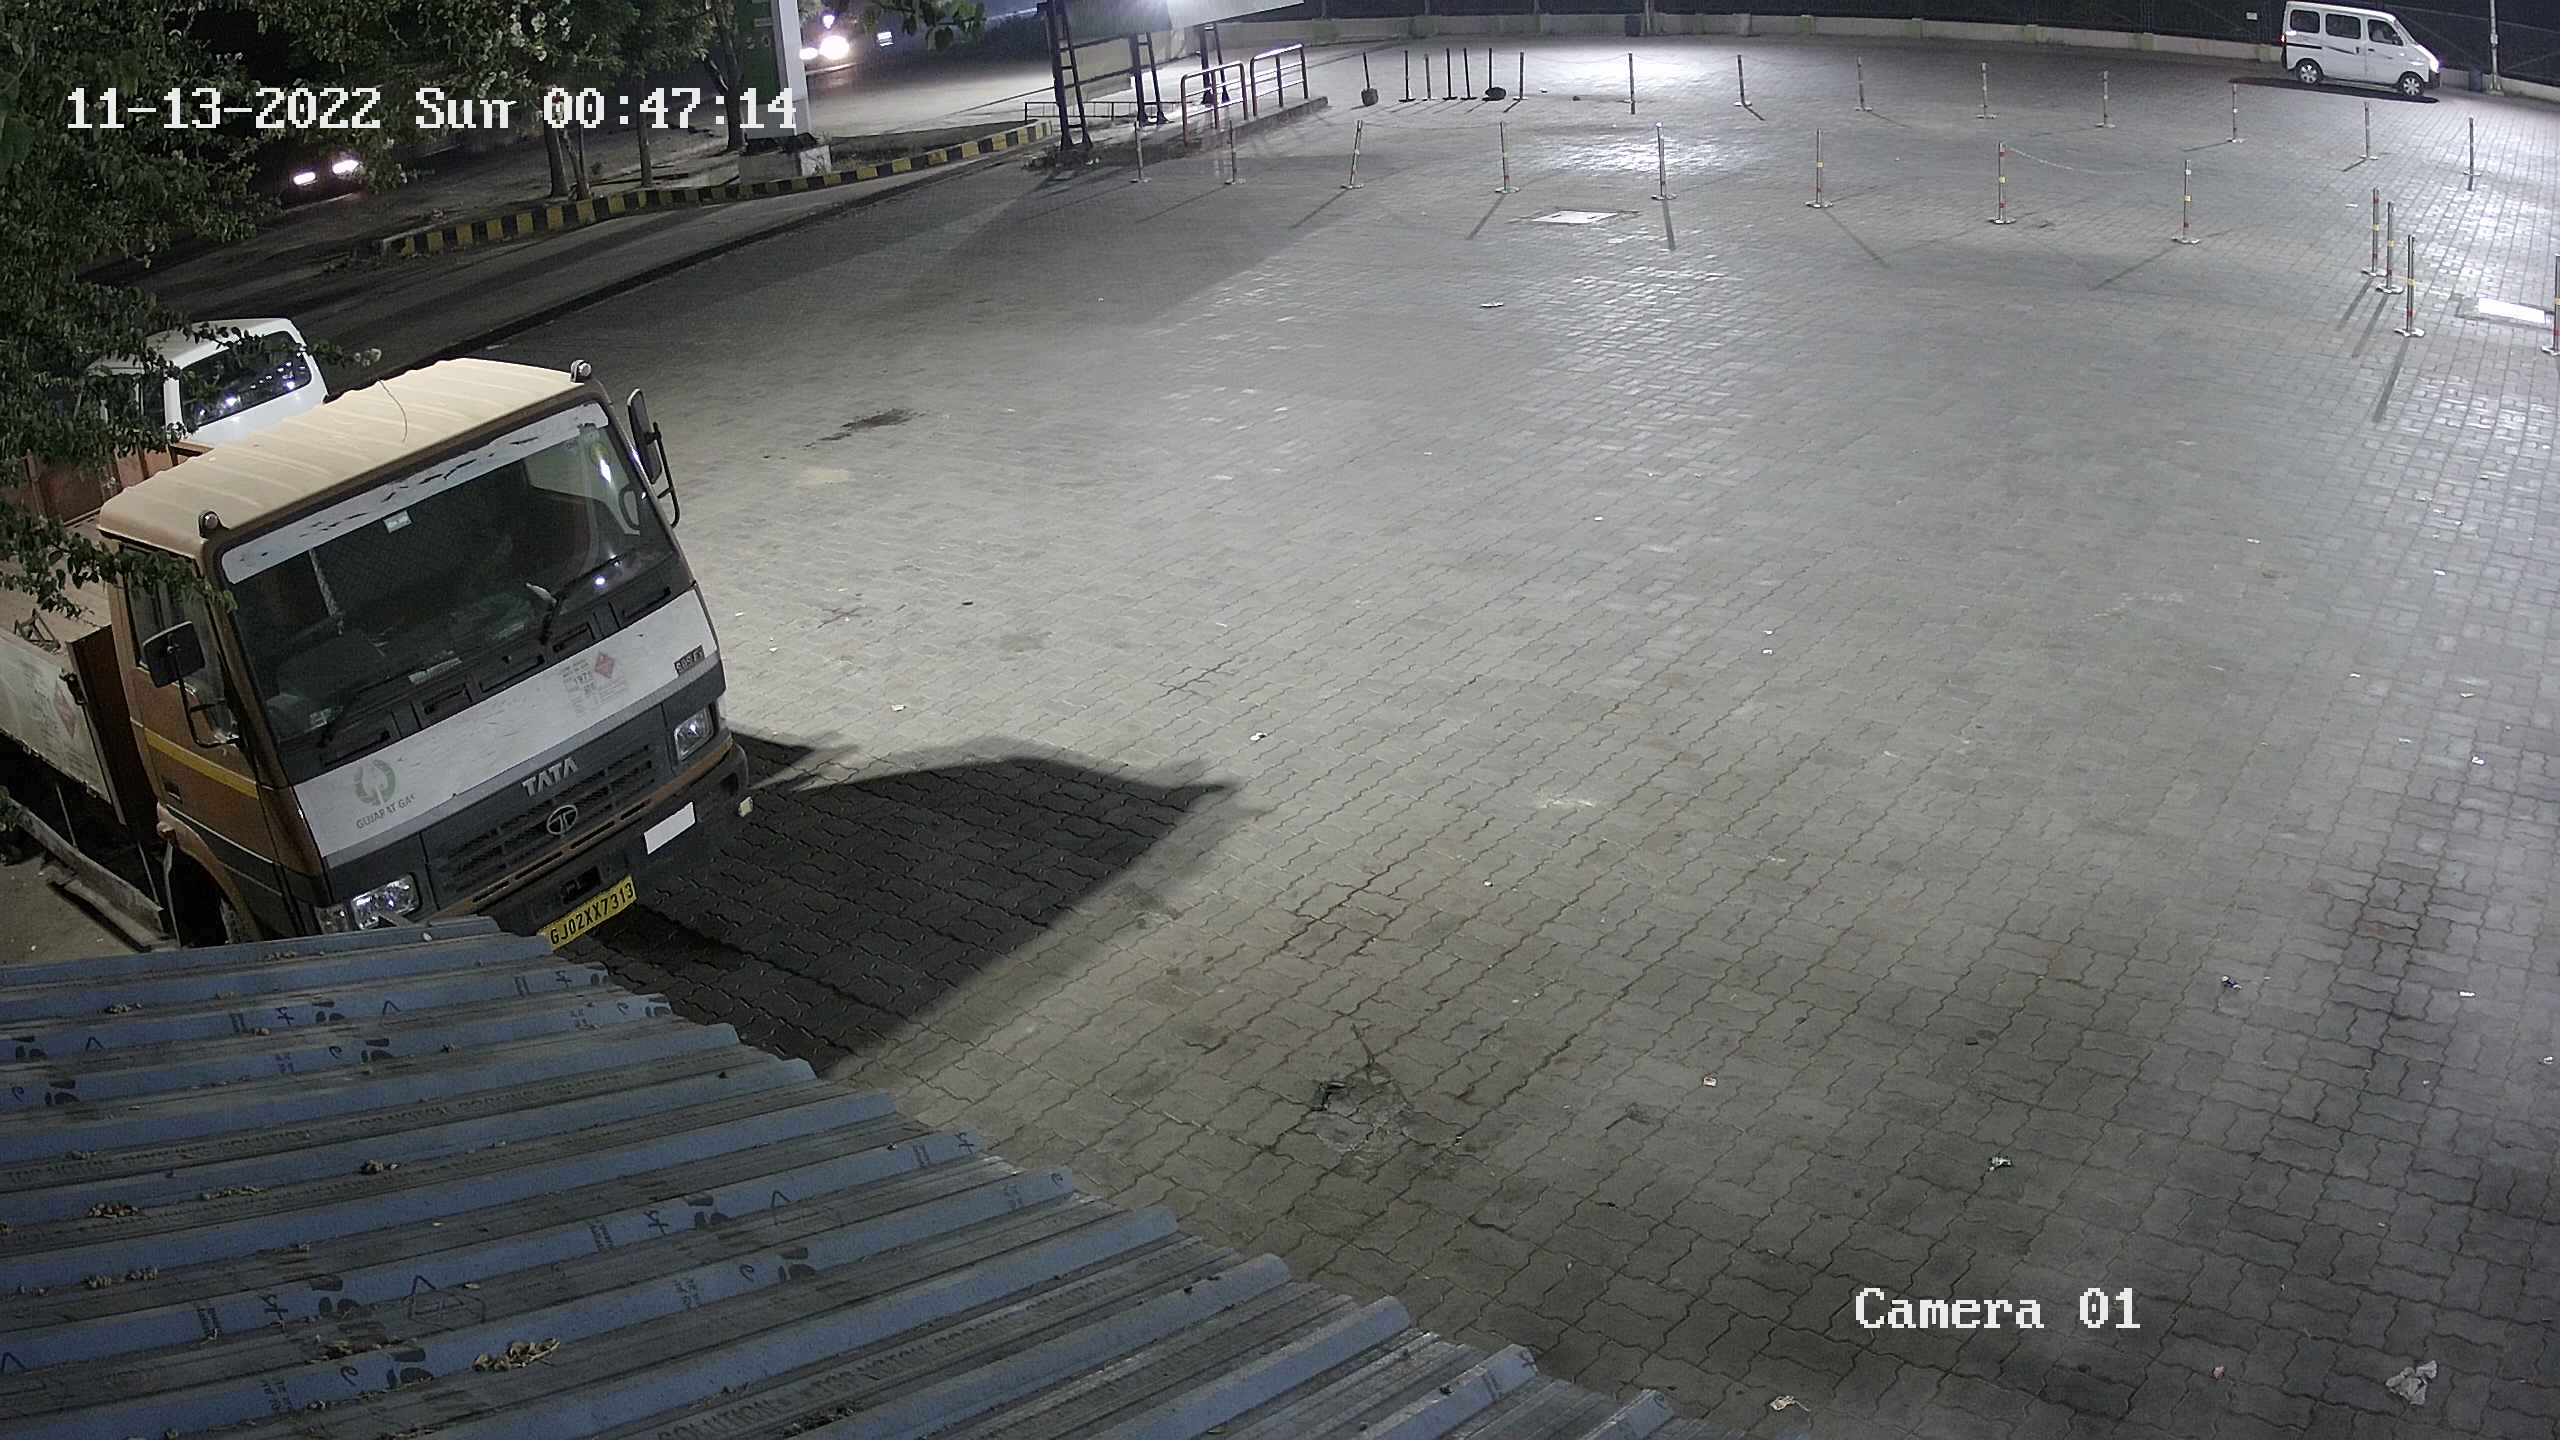Car: (49, 301, 346, 455), (2256, 0, 2449, 109)
HMV: (0, 332, 763, 969)
